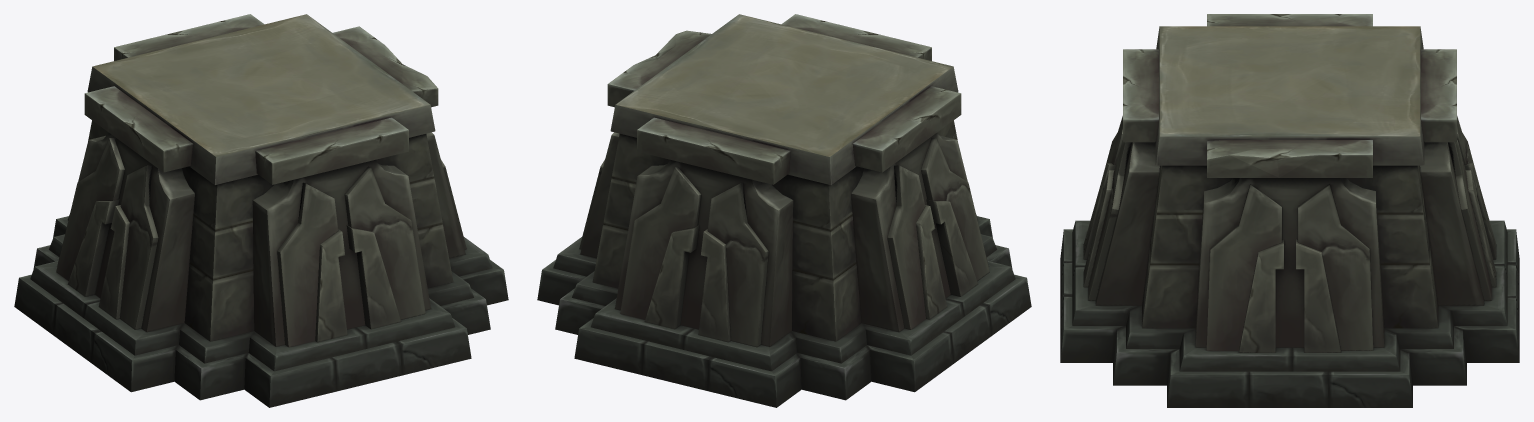
The model's file is angelStatue.fbx.
The picture shows the model from 3 angles, left to right: view 1: azimuth 30°, elevation 25°; view 2: azimuth 150°, elevation 25°; view 3: azimuth 270°, elevation 25°; orthographic projection. The views are drawn at different scales.
Parts seen in each view (by area): view 1: angelStatue_mesh; view 2: angelStatue_mesh; view 3: angelStatue_mesh.
Boxes of the visible parts, <box> form: angelStatue_mesh: <box>14,14,508,407</box>; angelStatue_mesh: <box>537,14,1031,407</box>; angelStatue_mesh: <box>1060,14,1519,407</box>.
Bounding box in the file's own units: 319 × 176 × 319.
